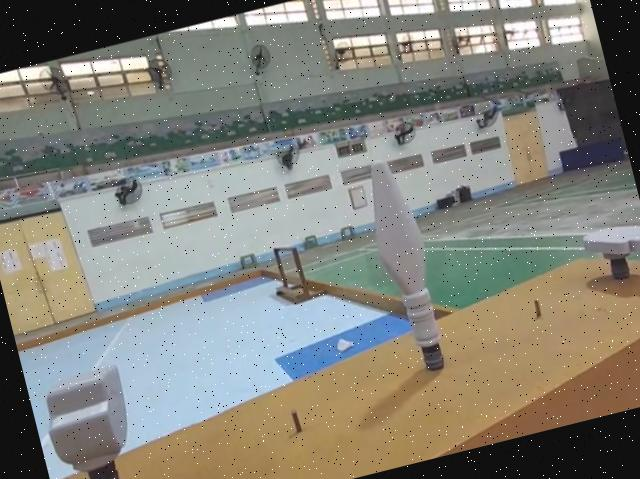Fist: (34, 359, 156, 479)
Hand: (578, 210, 640, 285)
Sph: (351, 155, 459, 385)
